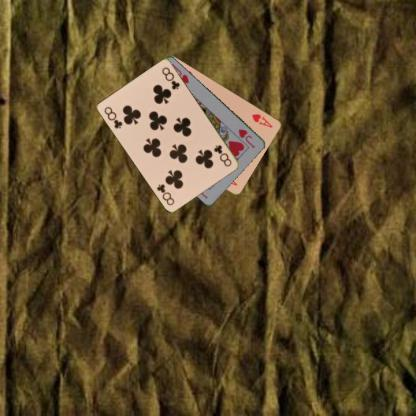8c: (211, 142, 233, 168), (102, 104, 124, 130)
Ah: (249, 111, 274, 129)
Jh: (236, 126, 256, 150)
